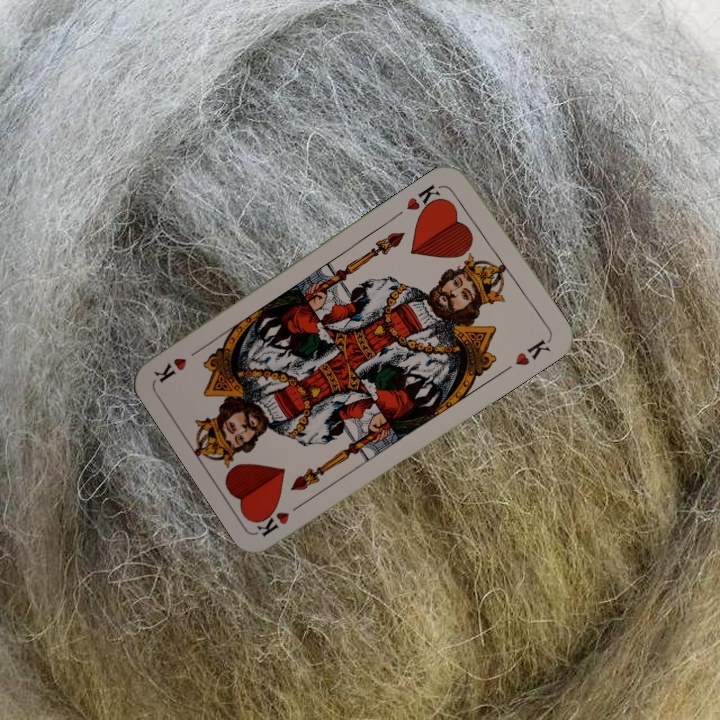HK: (251, 497, 309, 539), (402, 180, 448, 219)
